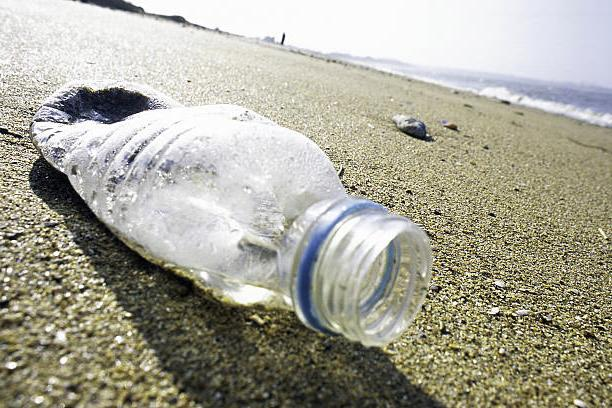Plastic: (29, 72, 439, 362)
